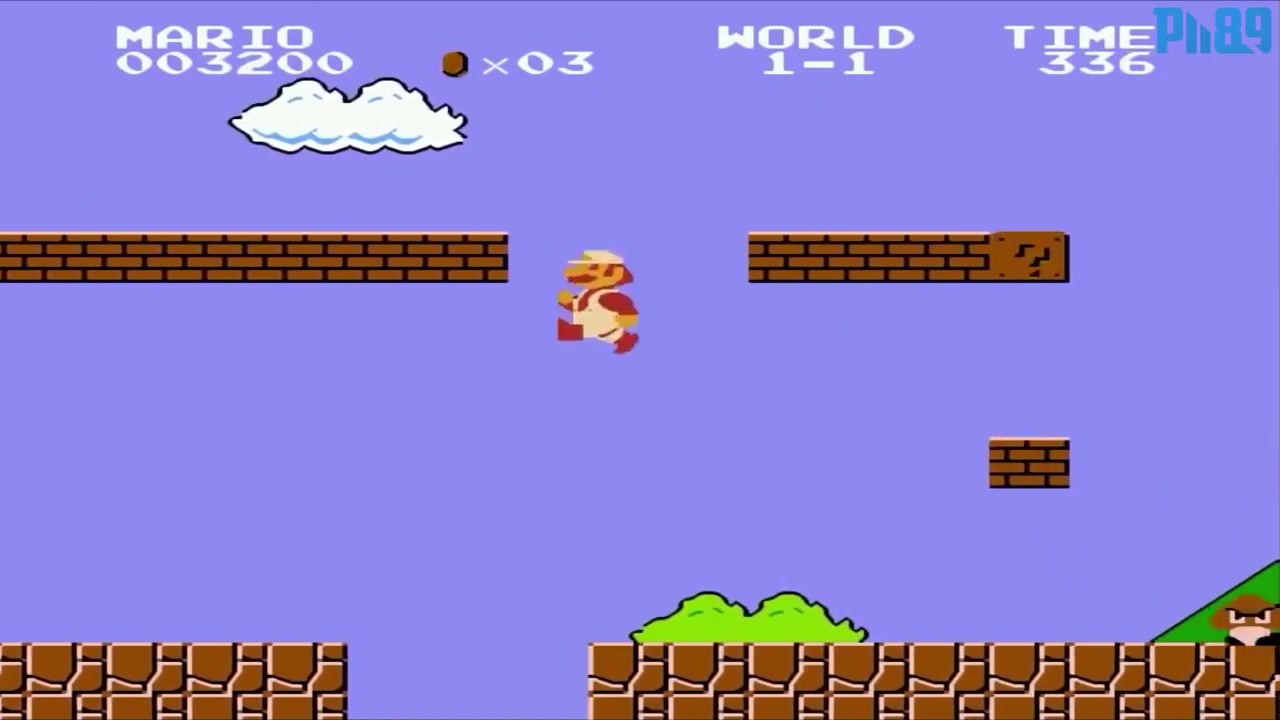mario: (555, 243, 641, 355)
